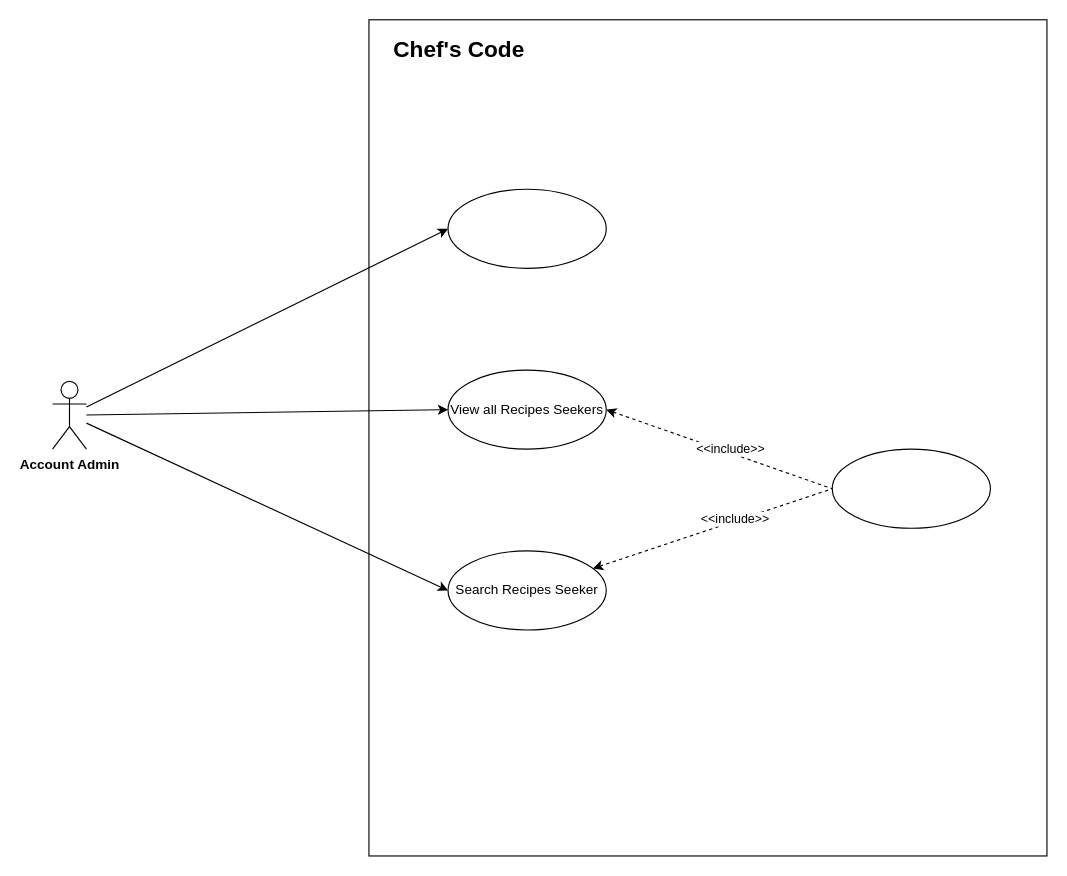
This 1067x876 diagram has some shape labels left out. Here are the shapes that lost their labels. From the top down, the box of each, then its label:
(447, 188, 606, 268): Login
(831, 448, 990, 528): Delete Recipes Seeker
